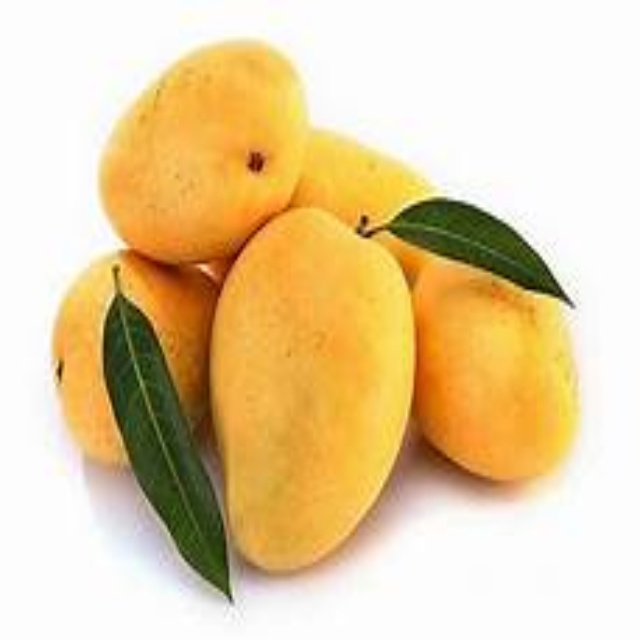mango: (212, 215, 415, 574), (398, 233, 583, 487), (96, 32, 303, 254), (62, 247, 232, 470)
